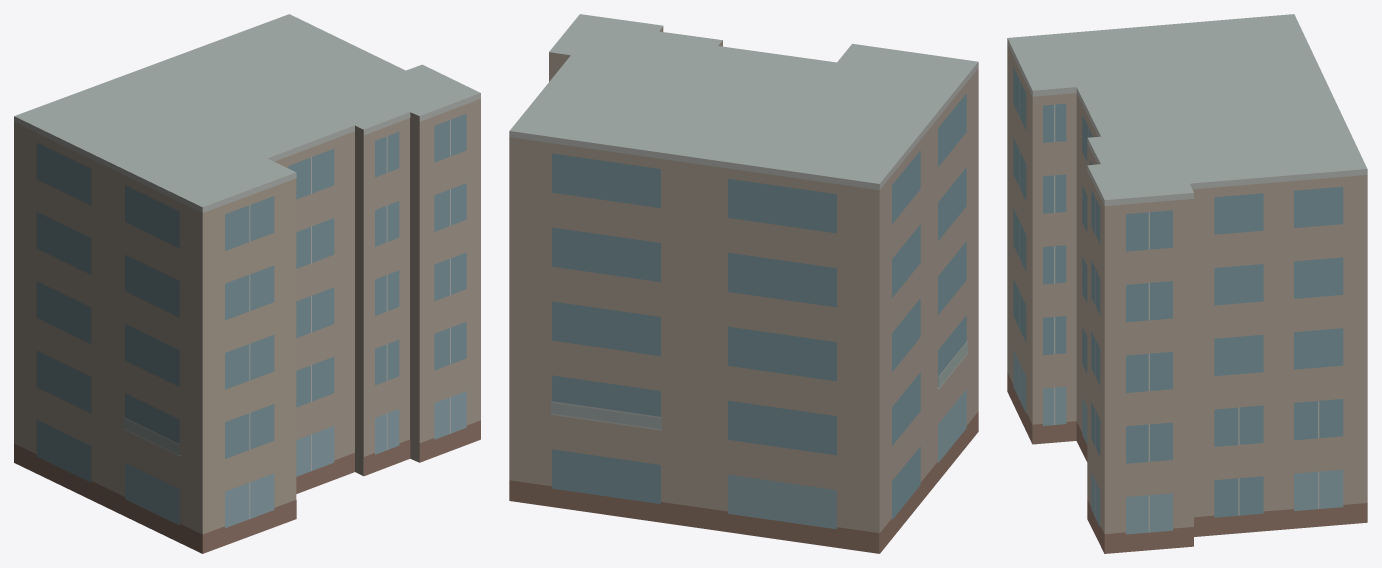
File: survey-upis-32607451.glb
3 renders of one model, left to right at view 1: azimuth 30°, elevation 25°; view 2: azimuth 150°, elevation 25°; view 3: azimuth 270°, elevation 25°, orthographic. The views are drawn at different scales.
Parts seen in each view (by area): view 1: survey-upis-32607451.tmp; view 2: survey-upis-32607451.tmp; view 3: survey-upis-32607451.tmp.
Part boxes in pixels (x1,y1,x2,y2): survey-upis-32607451.tmp: (14,14,480,553); survey-upis-32607451.tmp: (509,14,978,553); survey-upis-32607451.tmp: (1007,14,1367,553).
Bounding box in the file's own units: 16.49 × 14.6 × 13.48.
